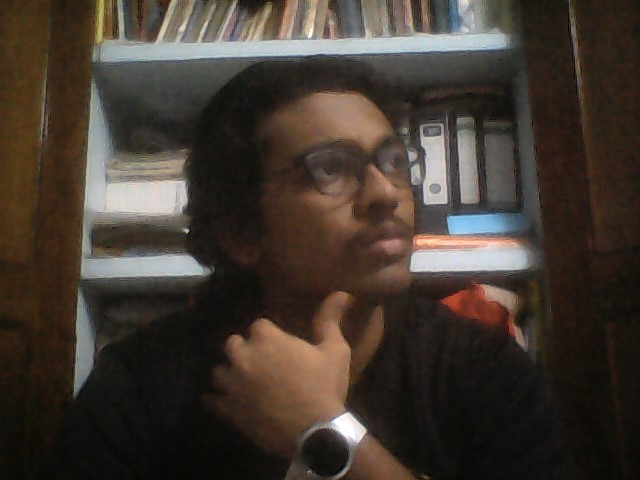person: (71, 52, 546, 478)
smartwatch: (269, 407, 378, 480)
